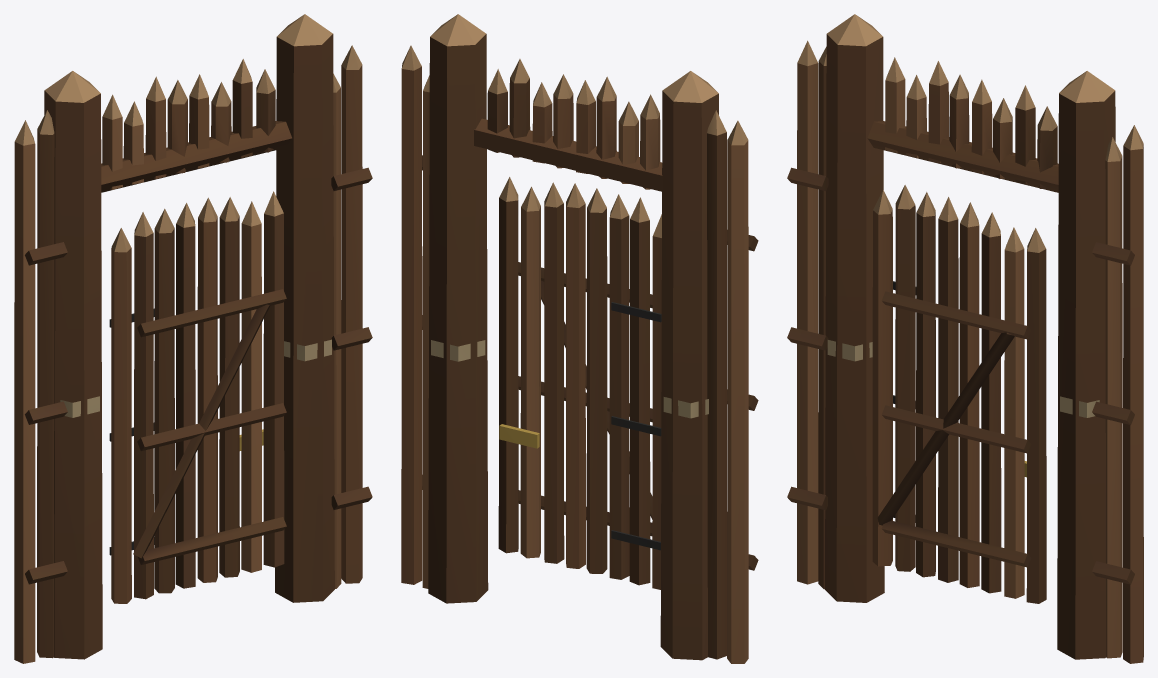
Rendered from fence_wicket_low.glb.
3 views of the same model, side by side, from view 1: azimuth 30°, elevation 25°; view 2: azimuth 150°, elevation 25°; view 3: azimuth 330°, elevation 25° (orthographic).
Visible parts, largest first — view 1: fence_wicket, side; view 2: fence_wicket, side; view 3: fence_wicket, side.
Boxes of the visible parts, x1=… form: fence_wicket: x1=14, y1=14, x2=372, y2=663; side: x1=109, y1=191, x2=286, y2=603; fence_wicket: x1=401, y1=14, x2=758, y2=663; side: x1=498, y1=177, x2=661, y2=589; fence_wicket: x1=787, y1=14, x2=1143, y2=663; side: x1=872, y1=185, x2=1046, y2=603.
Bounding box in the file's own units: 2.38 × 3.8 × 0.4487.
